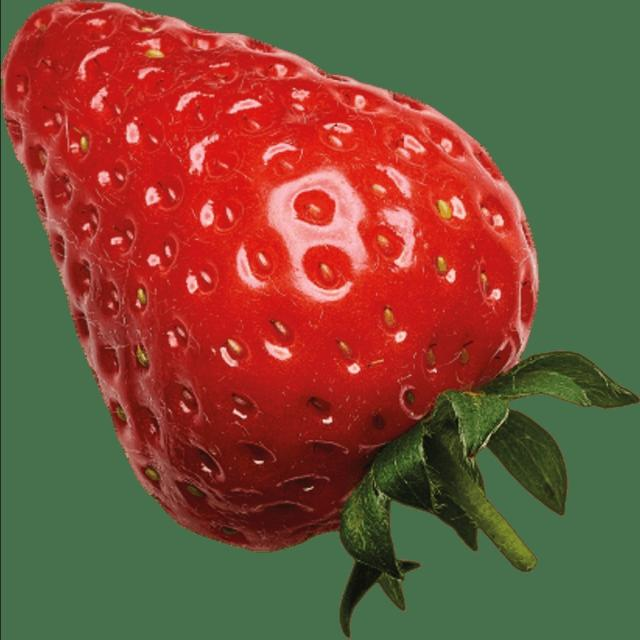strawberry: (0, 0, 617, 609)
